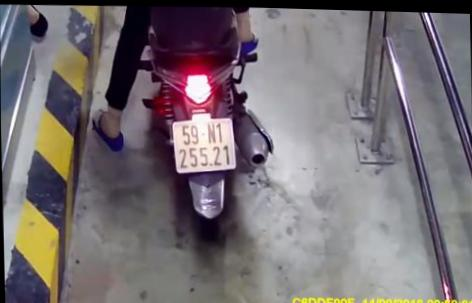LP: (171, 114, 235, 175)
